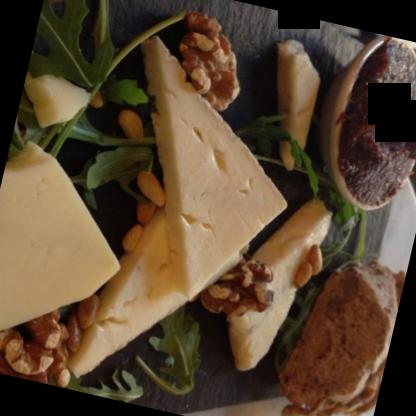bread: (285, 252, 406, 415)
parmesan cheese: (86, 34, 310, 304), (66, 180, 256, 400), (0, 143, 142, 369)
